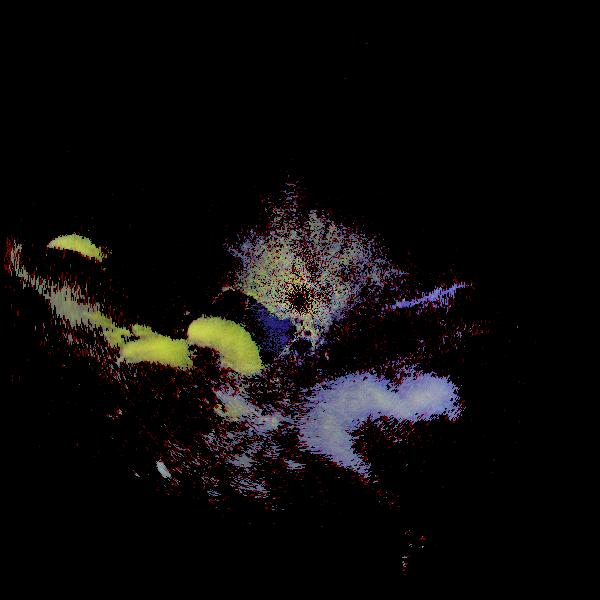roost: (117, 286, 288, 457), (64, 299, 217, 452), (11, 215, 131, 335)
